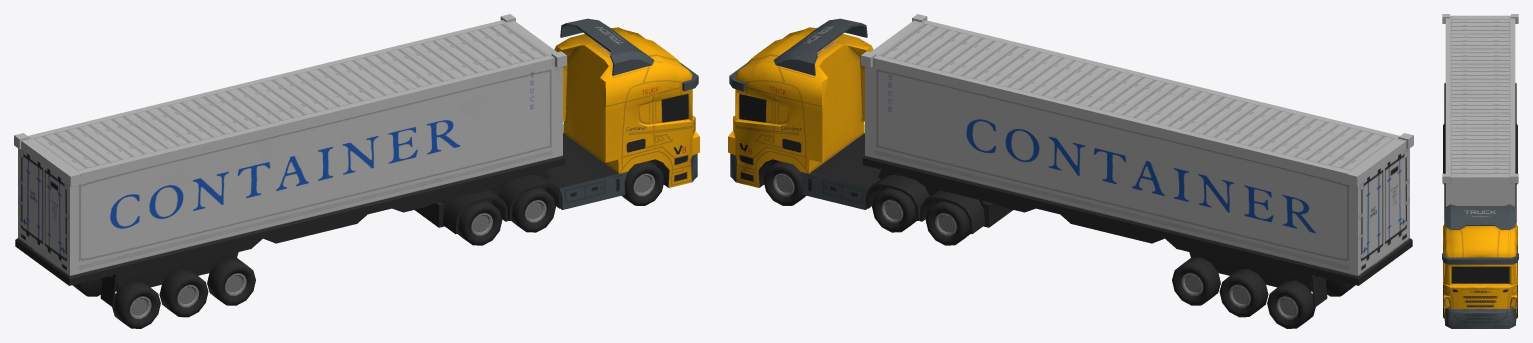
3 views of the same model, side by side, from view 1: azimuth 30°, elevation 25°; view 2: azimuth 150°, elevation 25°; view 3: azimuth 270°, elevation 25° (orthographic). The views are drawn at different scales.
Visible parts, largest first — view 1: Truck, Object005, Object006, Object007, Object003, Object004, Object002, Object014; view 2: Truck, Object010, Object009, Object008, Object012, Object011, Object013, Object014; view 3: Truck, Object014.
Boxes of the visible parts, left/top/right/bottom form: Truck: left=14, top=14, right=699, bottom=307; Object005: left=207, top=257, right=255, bottom=305; Object006: left=159, top=269, right=208, bottom=317; Object007: left=112, top=280, right=160, bottom=328; Object003: left=511, top=187, right=555, bottom=232; Object004: left=458, top=200, right=502, bottom=245; Object002: left=621, top=161, right=664, bottom=205; Object014: left=662, top=94, right=688, bottom=122; Truck: left=728, top=14, right=1413, bottom=307; Object010: left=1172, top=257, right=1220, bottom=305; Object009: left=1219, top=269, right=1268, bottom=317; Object008: left=1267, top=280, right=1315, bottom=328; Object012: left=872, top=187, right=916, bottom=232; Object011: left=925, top=200, right=969, bottom=245; Object013: left=763, top=161, right=806, bottom=205; Object014: left=739, top=94, right=765, bottom=122; Truck: left=1442, top=14, right=1518, bottom=328; Object014: left=1451, top=266, right=1509, bottom=283.
Size of the model in its own units: 130 by 33.6 by 20.31.
Materials: 1 (1 with a texture image).
